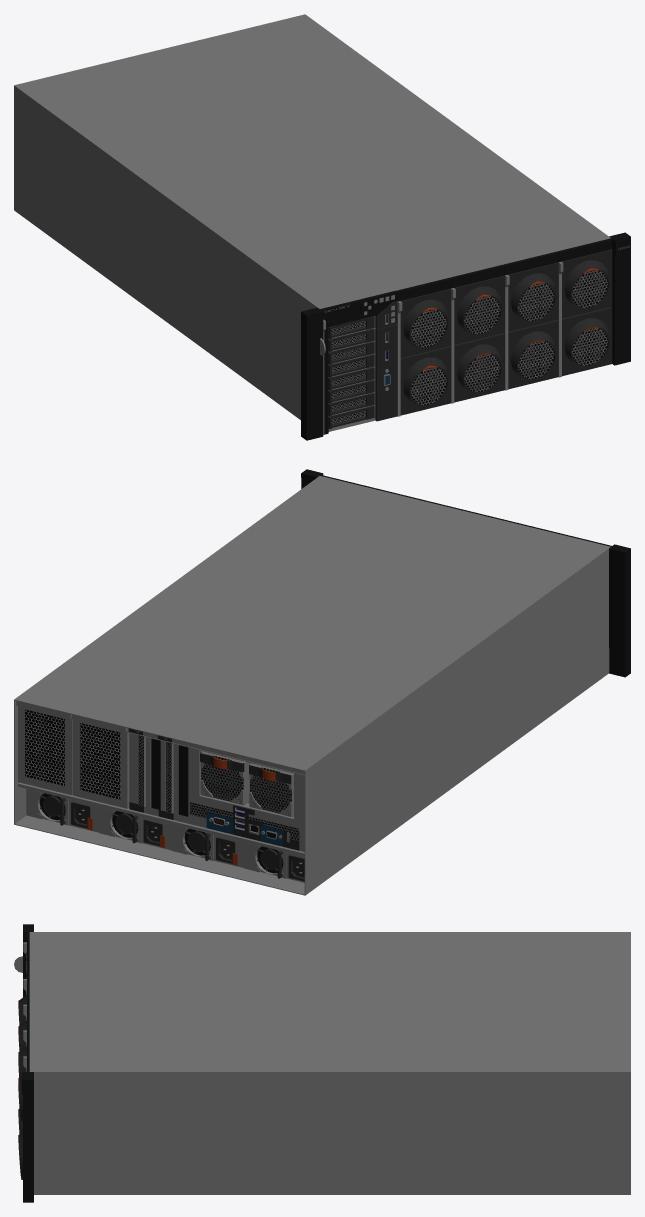
File: Lenovo_x3850.fbx
3 renders of one model, top to bottom at view 1: azimuth 30°, elevation 25°; view 2: azimuth 150°, elevation 25°; view 3: azimuth 270°, elevation 25°, orthographic.
Parts seen in each view (by area): view 1: Lenovo_x3850; view 2: Lenovo_x3850; view 3: Lenovo_x3850.
Boxes of the visible parts, x1=… form: Lenovo_x3850: x1=14, y1=14, x2=630, y2=440; Lenovo_x3850: x1=14, y1=469, x2=630, y2=895; Lenovo_x3850: x1=14, y1=924, x2=630, y2=1202.
Bounding box in the file's own units: 483 × 178 × 810.
7 materials, 1 textured.
